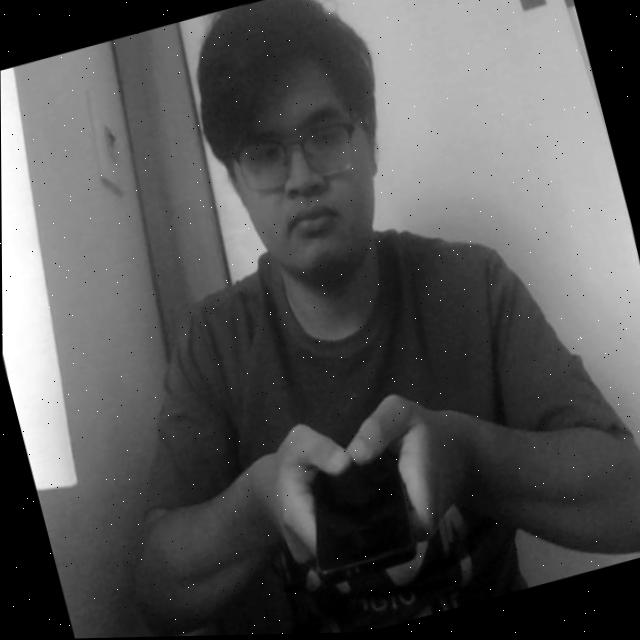phone: (265, 403, 444, 603)
